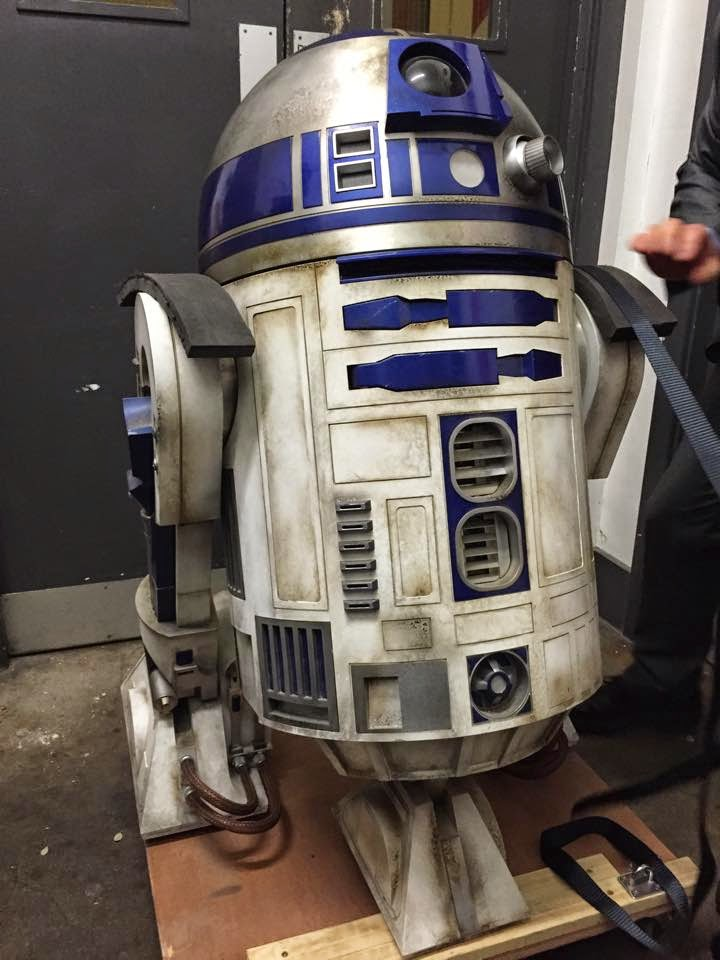r2d2: (121, 27, 646, 957)
